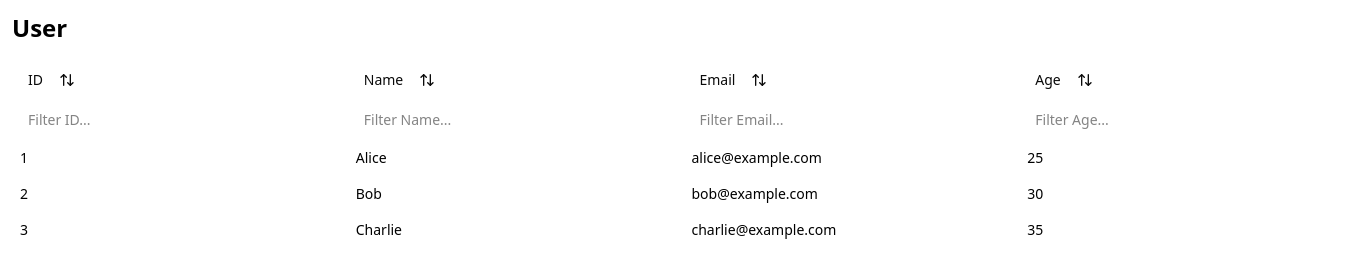
ListView - Table Filtering › should show all results when filters are cleared
The image size is (1349, 265).
// Filter by name
In the field with placeholder "Filter Name...": (516, 120) [356,106,676,134], type "Alice"
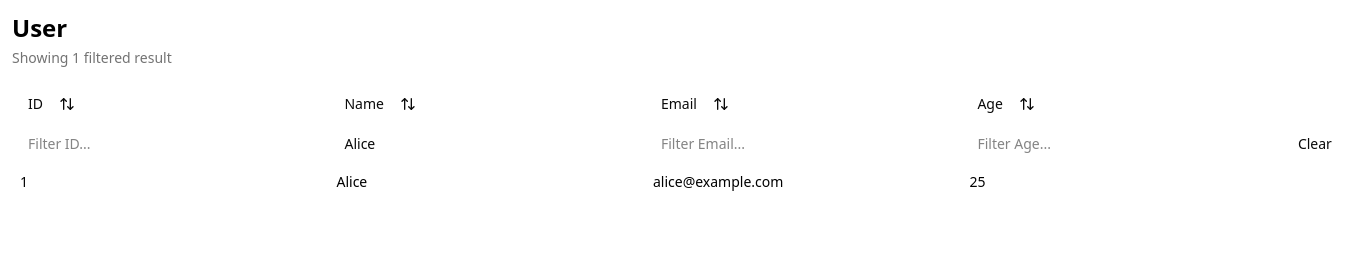
Expected: the text "Bob" is gone
// Clear filter
Clear the field with placeholder "Filter Name...": (487, 144) [336,130,637,158]
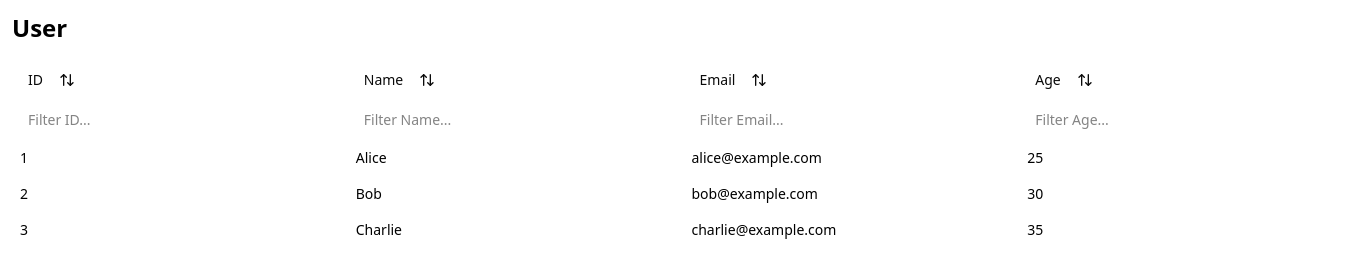
Expected: the text "Alice" is shown, [348,140,684,176]
Expected: the text "Bob" is shown, [348,176,684,212]
Expected: the text "Charlie" is shown, [348,212,684,248]
